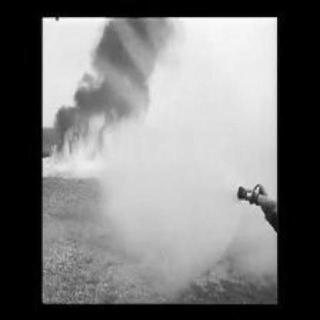Fire: (47, 99, 136, 180)
